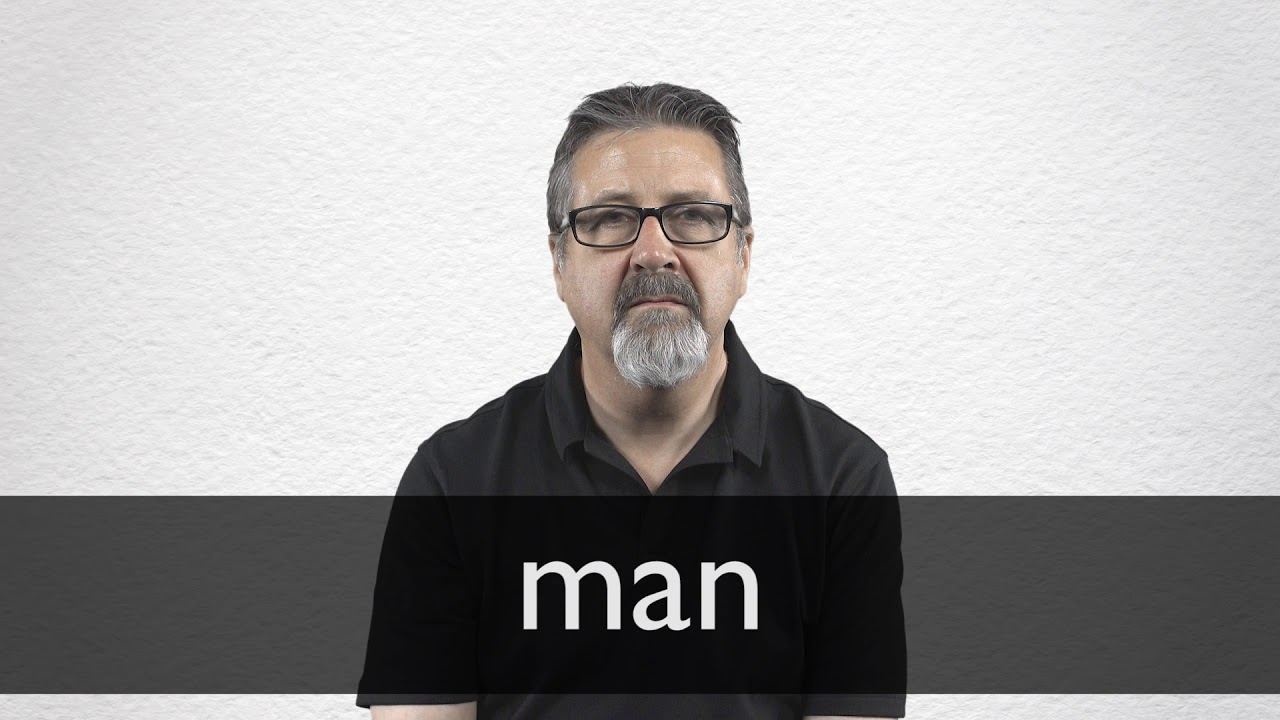Without Helmet: (545, 66, 765, 405)
